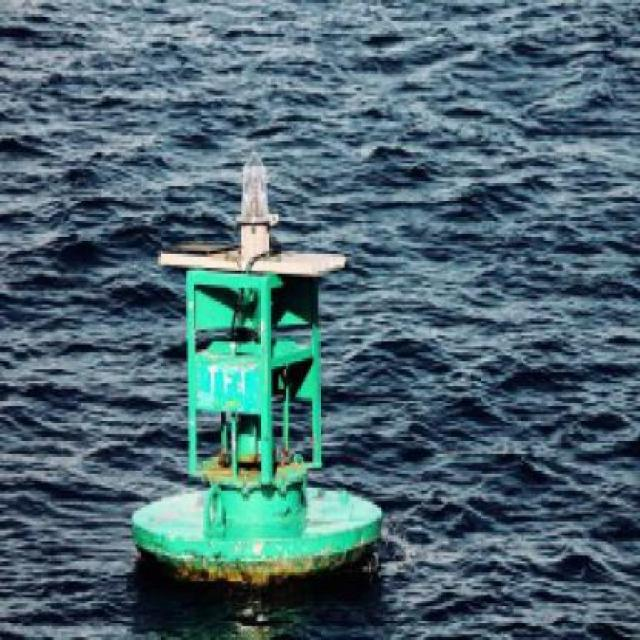buoy: (118, 139, 395, 605)
